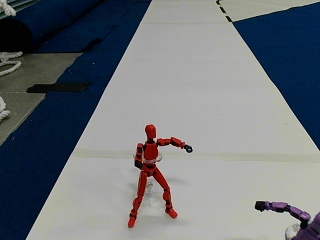pedestrian: (129, 125, 189, 226), (254, 199, 313, 237)
